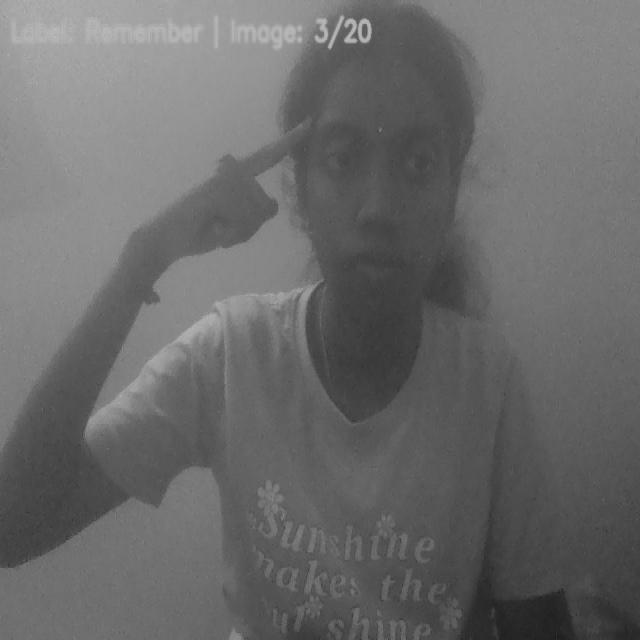Remember: (132, 110, 318, 266)
